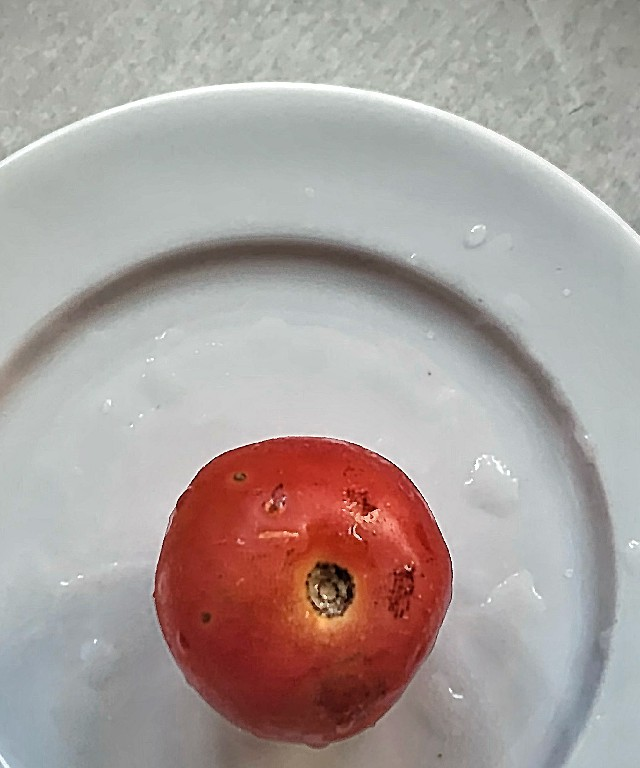NG: (146, 428, 436, 762)
